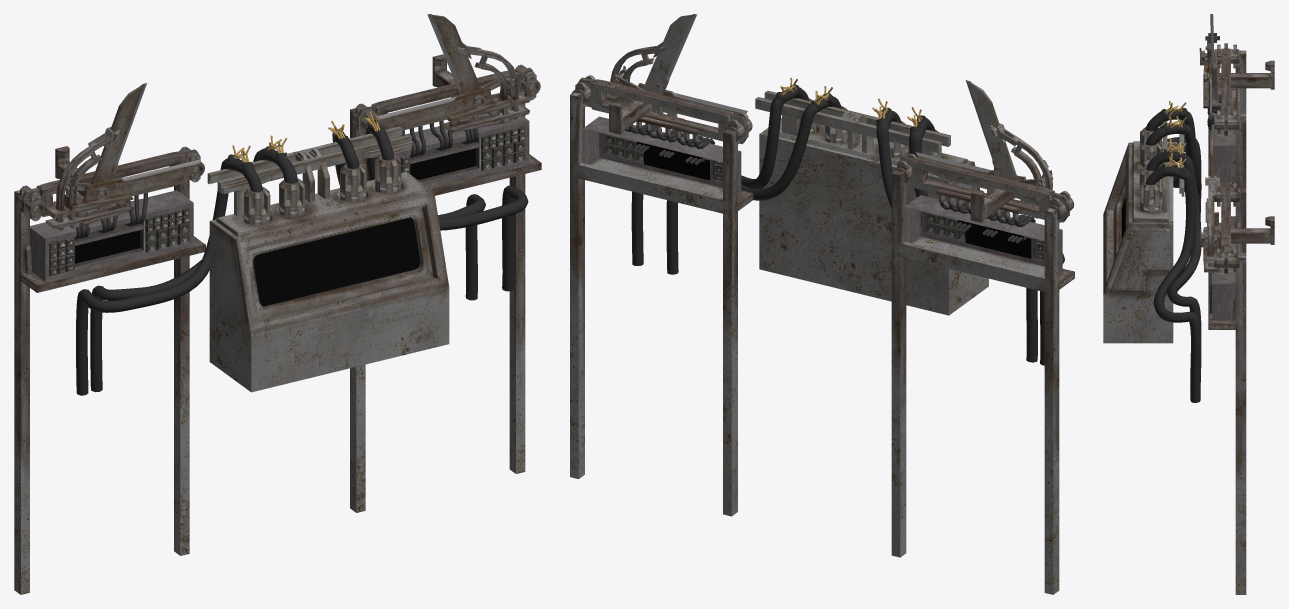
Rendered from health counter main1.glb.
3 renders of one model, left to right at view 1: azimuth 30°, elevation 25°; view 2: azimuth 150°, elevation 25°; view 3: azimuth 270°, elevation 25°, orthographic. The views are drawn at different scales.
Parts seen in each view (by area): view 1: health counter parent, defib cutter parent_dealer side, defib cutter parent_player side, defib cutter parent_dealer side_blade parent, defib cutter parent_player side_blade parent, defib wire dealer side_normal, defib wire player side_broken, defib wire dealer side_broken, defib wire player side_normal, defib cutter parent_player side_blade, defib cutter parent_dealer side_blade; view 2: defib cutter parent_dealer side, health counter parent, defib cutter parent_player side, defib wire player side_normal, defib wire player side_broken, defib wire dealer side_broken, defib cutter parent_dealer side_blade parent, defib cutter parent_dealer side_blade, defib cutter parent_player side_blade, defib cutter parent_player side_blade parent, defib cutter parent_player side_hoist parent, defib wire dealer side_normal (+1 smaller); view 3: health counter parent, defib cutter parent_player side, defib cutter parent_dealer side, defib wire player side_broken, defib wire player side_normal, defib wire dealer side_normal, defib cutter parent_player side_blade parent, defib cutter parent_dealer side_hoist parent, defib wire dealer side_broken, defib cutter parent_player side_hoist parent, defib cutter parent_dealer side_blade parent, defib cutter parent_dealer side_blade (+1 smaller).
Boxes of the visible parts, box(x1,y1,x2,y2) form: health counter parent: box(207, 126, 449, 392); defib cutter parent_dealer side: box(14, 146, 205, 594); defib cutter parent_player side: box(350, 64, 541, 512); defib cutter parent_dealer side_blade parent: box(44, 127, 200, 230); defib cutter parent_player side_blade parent: box(376, 42, 529, 132); defib wire dealer side_normal: box(79, 148, 297, 395); defib wire player side_broken: box(328, 112, 528, 297); defib wire dealer side_broken: box(76, 135, 292, 395); defib wire player side_normal: box(332, 124, 526, 300); defib cutter parent_player side_blade: box(427, 14, 518, 94); defib cutter parent_dealer side_blade: box(65, 83, 146, 198); defib cutter parent_dealer side: box(891, 153, 1074, 594); health counter parent: box(755, 90, 988, 315); defib cutter parent_player side: box(570, 75, 753, 516); defib wire player side_normal: box(631, 88, 841, 273); defib wire player side_broken: box(631, 77, 840, 274); defib wire dealer side_broken: box(872, 98, 1064, 365); defib cutter parent_dealer side_blade parent: box(916, 123, 1052, 218); defib cutter parent_dealer side_blade: box(965, 80, 1052, 197); defib cutter parent_player side_blade: box(612, 14, 696, 111); defib cutter parent_player side_blade parent: box(607, 42, 747, 123); defib cutter parent_player side_hoist parent: box(609, 83, 663, 134); defib wire dealer side_normal: box(878, 111, 1064, 364); health counter parent: box(1103, 109, 1184, 343); defib cutter parent_player side: box(1208, 181, 1246, 594); defib cutter parent_dealer side: box(1207, 43, 1246, 188); defib wire player side_broken: box(1145, 138, 1201, 402); defib wire player side_normal: box(1152, 151, 1201, 402); defib wire dealer side_normal: box(1146, 109, 1201, 216); defib cutter parent_player side_blade parent: box(1199, 175, 1219, 273); defib cutter parent_dealer side_hoist parent: box(1214, 60, 1274, 104); defib wire dealer side_broken: box(1145, 101, 1201, 198); defib cutter parent_player side_hoist parent: box(1214, 212, 1274, 244); defib cutter parent_dealer side_blade parent: box(1199, 33, 1219, 119); defib cutter parent_dealer side_blade: box(1201, 14, 1220, 91).
Bounding box in the file's own units: 8.99 × 8.31 × 3.09.
10 materials, 7 textured.
